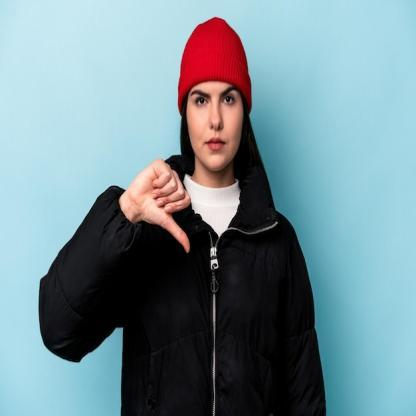thumb_down: (128, 154, 194, 257)
